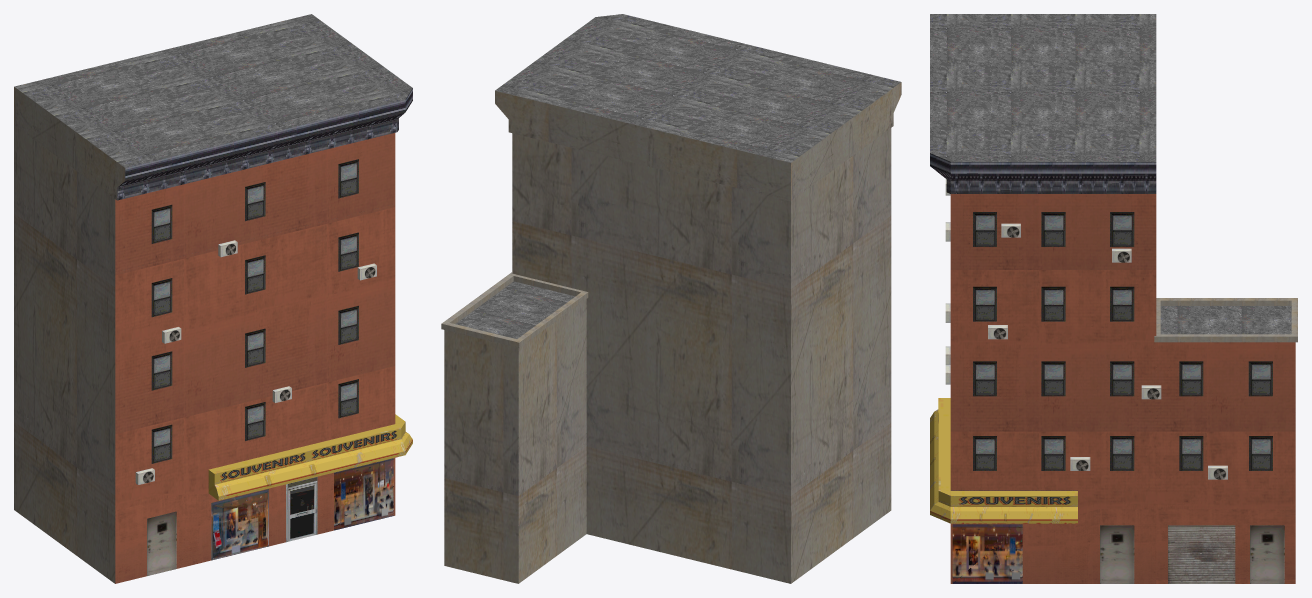
The model's file is PSX NYC Building.fbx.
3 views of the same model, side by side, from view 1: azimuth 30°, elevation 25°; view 2: azimuth 150°, elevation 25°; view 3: azimuth 270°, elevation 25° (orthographic). The views are drawn at different scales.
Parts seen in each view (by area): view 1: PSX NYC Building; view 2: PSX NYC Building; view 3: PSX NYC Building.
Boxes of the visible parts, left/top/right/bottom form: PSX NYC Building: left=14, top=14, right=412, bottom=583; PSX NYC Building: left=441, top=14, right=901, bottom=583; PSX NYC Building: left=930, top=14, right=1297, bottom=583.
Size of the model in its own units: 850 by 1155 by 894.
